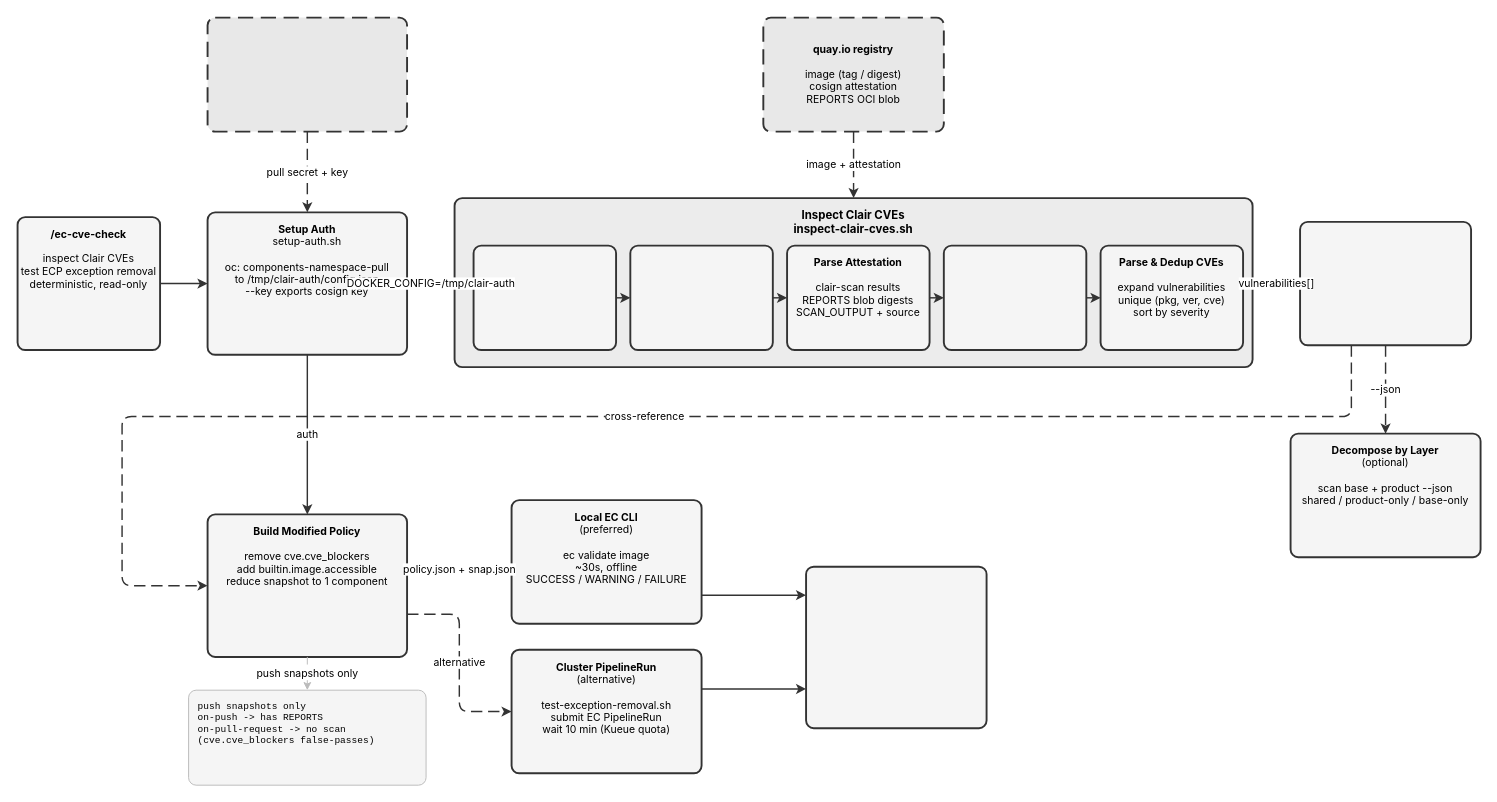
The diagram is 1497 pixels wide and 802 high, and some of its shapes have lost their labels. The shapes that lost their labels are listed below. From the top down, each one's centre as x and y in pixels, then its label:
point (307, 74): Konflux cluster oc access components-namespace-pull cosign key (k8s://)
point (544, 297): Resolve Digest skopeo inspect tag to sha256
point (701, 297): Verify Attestation cosign verify-attestation slsaprovenance
point (1014, 297): Fetch REPORTS Blob skopeo copy OCI blob fallback to source repo
point (1385, 283): CVE Report table (default) or --json summary by severity PEP 440 false positives
point (896, 647): Exception Verdict can remove / still needed blocking CVE IDs affected images
